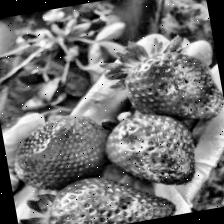Anthracnose Fruit Rot: (114, 117, 198, 195), (150, 66, 224, 124), (111, 188, 142, 216)
